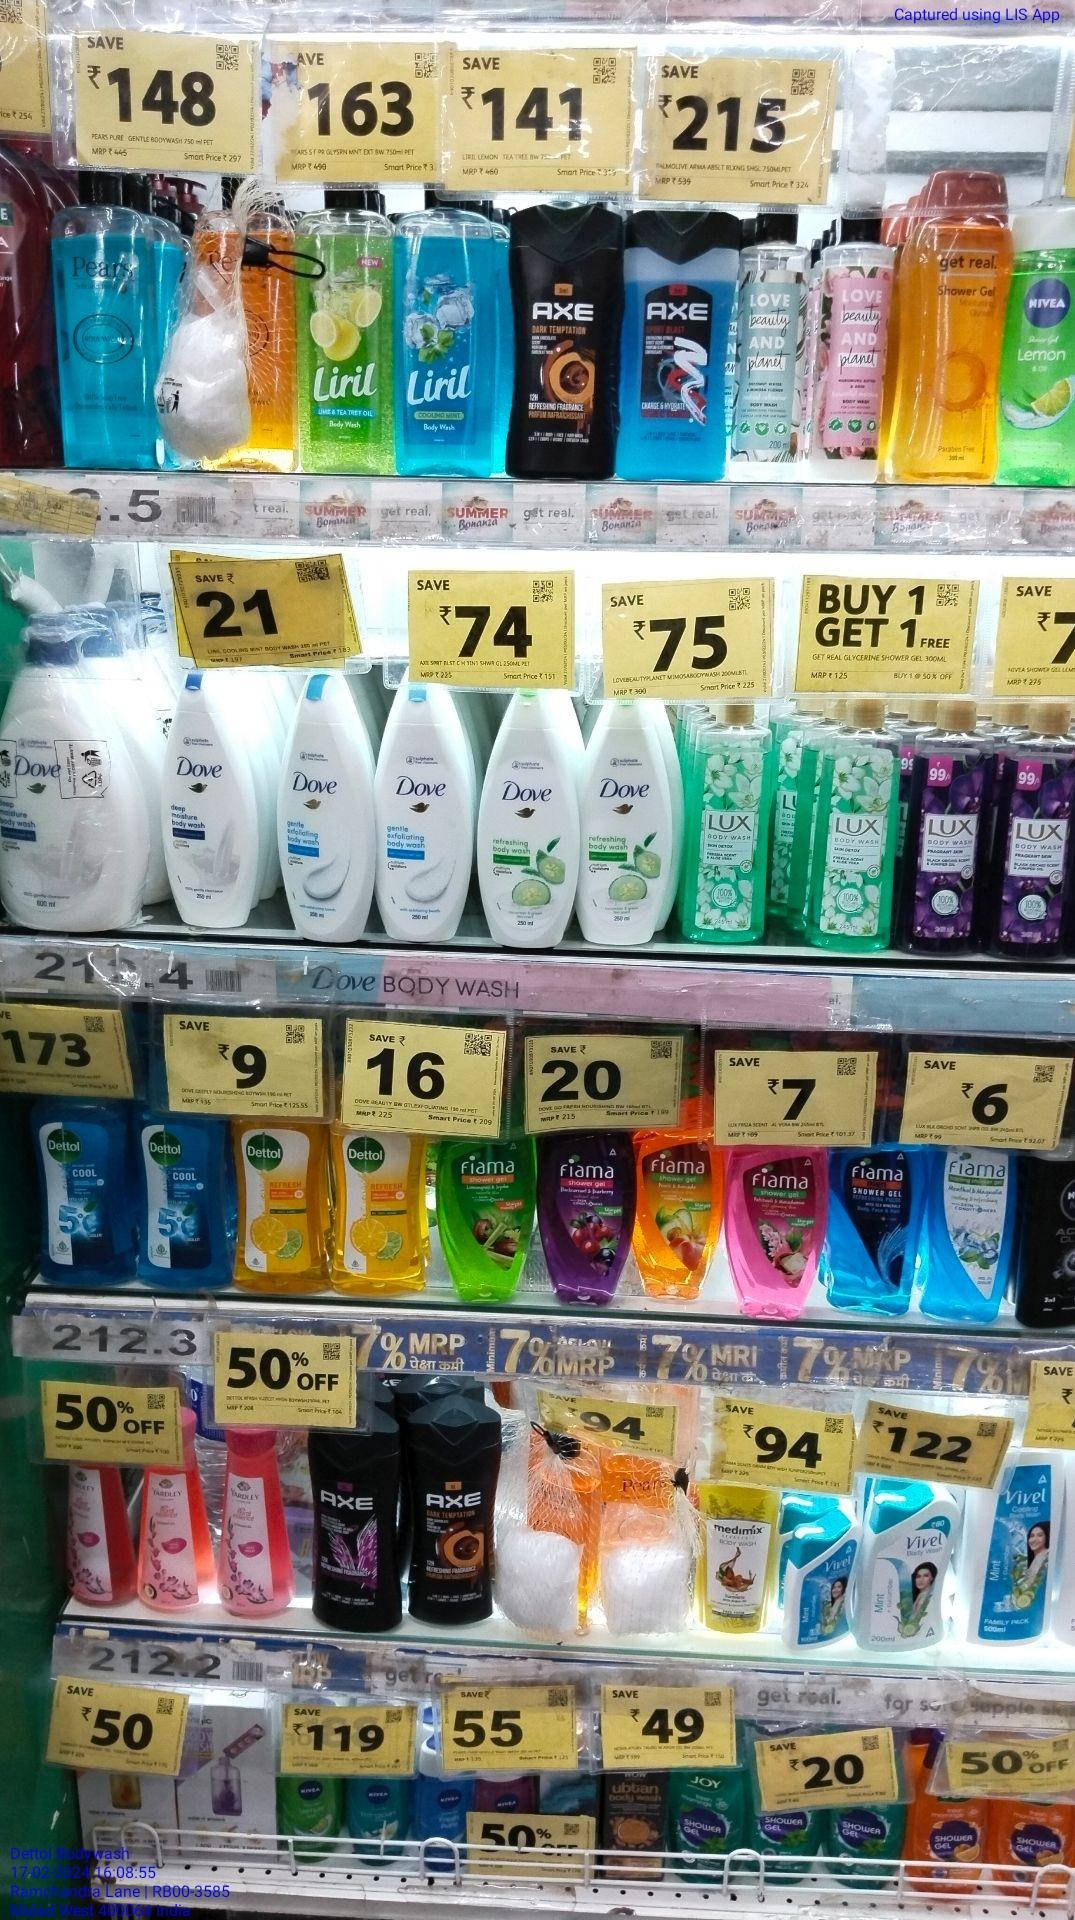Dettol_Bodywash_Cool: (30, 1089, 137, 1288), (145, 1105, 233, 1288)
Dettol_Bodywash_Refresh: (334, 1122, 426, 1295), (243, 1120, 331, 1296)
Dove_Deep_Moisture_Body_Wash_250ML: (164, 671, 251, 927)
Dove_Gentle_Exfoliating_Body_Wash_250ML: (282, 669, 377, 931), (384, 674, 470, 934)
Dove_Refreshing_Body_Wash_250ML: (475, 680, 580, 948), (587, 692, 675, 947)
Fiama_Shower_Gel_Lemongrass_and_Jojoba_250ML: (434, 1135, 539, 1309)
Fiama_Shower_Gel_Patchouli_and_Macadamia_250ML: (727, 1143, 820, 1323)
Fiama_Shower_Gel_Peach_and_Avocado_250ML: (633, 1125, 711, 1303)
Get_Real_Shower_Gel_Moisturising_Glycerin_300ML: (905, 173, 1002, 483)
Liril_Cooling_Mint_Body_Wash_250ML: (394, 177, 505, 479)
Liril_Lime_and_Tea_Tree_Oil_Body_Wash_250ML: (295, 183, 392, 475)
Lux_Black_Orchid_Scent_and_Juniper_Oil_Body_Wash_245ML: (991, 702, 1075, 948), (907, 699, 985, 949)
Lux_Body_Wash_Skin_Detox_Freesia_Scent_and_Alove_Vera_245ML: (801, 703, 894, 949), (686, 702, 776, 943)
Nivea_Shower_Gel_Lemon_and_Oil_250ML: (1006, 193, 1075, 488)
Pears_Pure_Glycerin_and_Mint_Extracts_Body_Wash_250ML: (62, 170, 156, 473)
